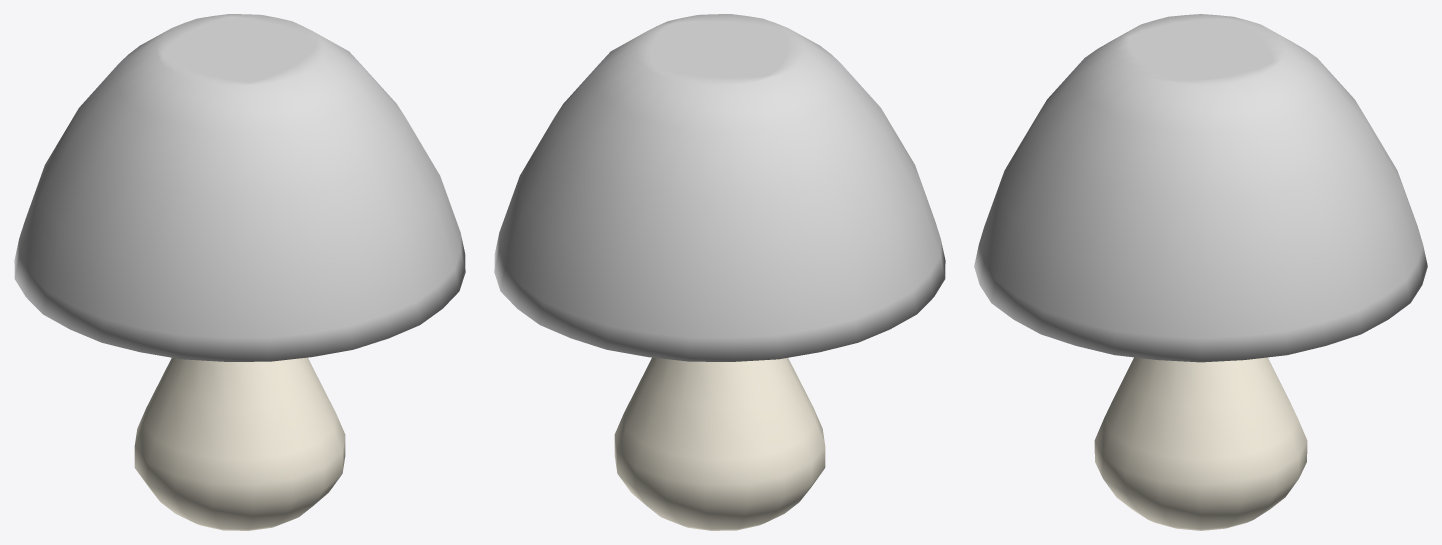
The model's file is Lamp_4.fbx.
The picture shows the model from 3 angles, left to right: view 1: azimuth 30°, elevation 25°; view 2: azimuth 150°, elevation 25°; view 3: azimuth 270°, elevation 25°; orthographic projection.
Parts seen in each view (by area): view 1: Lamp_4; view 2: Lamp_4; view 3: Lamp_4.
Part boxes in pixels (x1,y1,x2,y2): Lamp_4: (14,14,465,530); Lamp_4: (494,14,945,530); Lamp_4: (974,14,1427,530).
Bounding box in the file's own units: 38 × 41.96 × 38.
